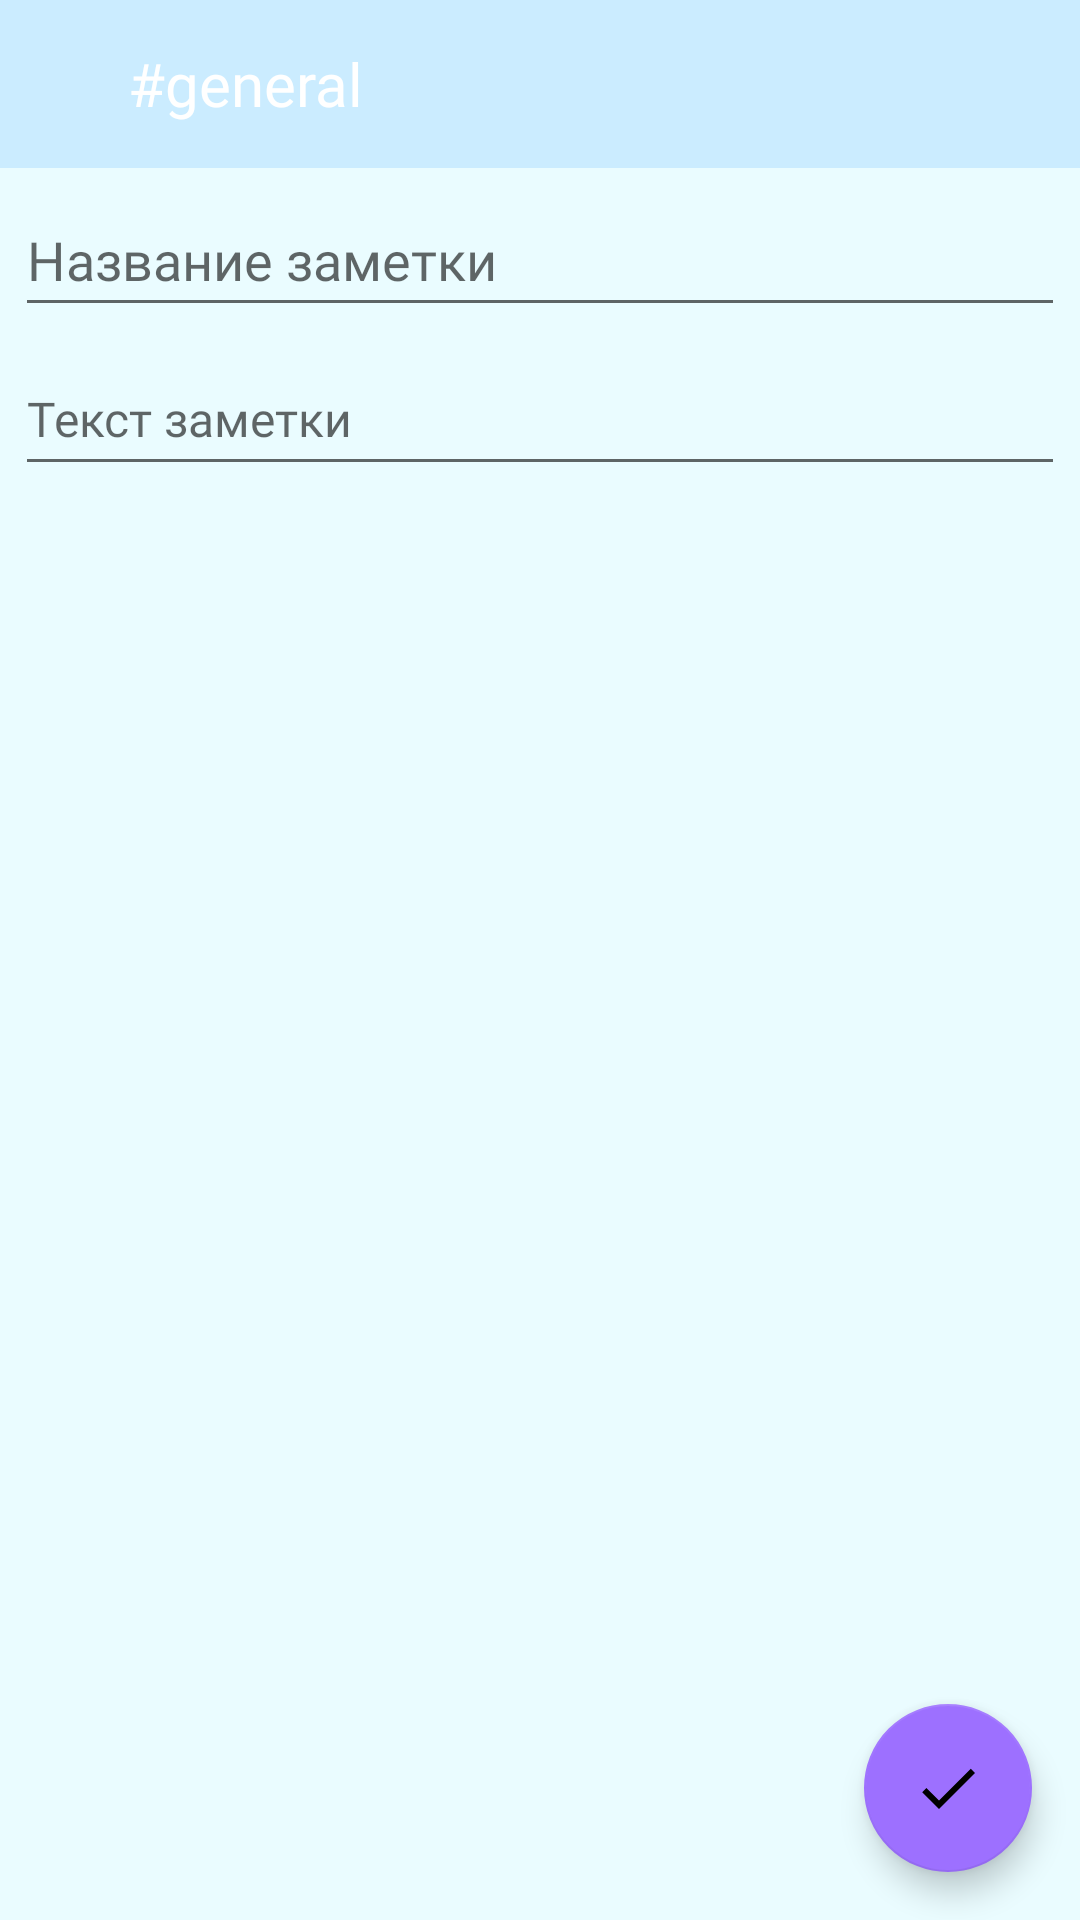

Named icons in this screenshot (1080*1920) and their bounding boxes, (x1, y1, x2, y2):
done: (864, 1704, 1032, 1872)
